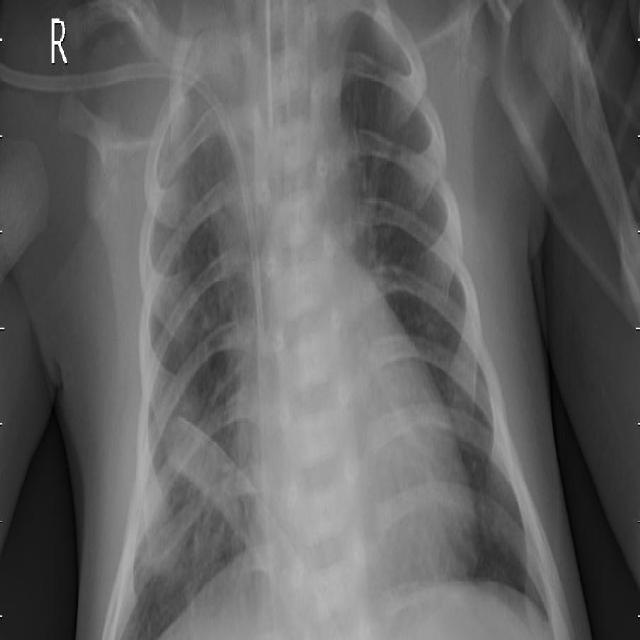high-pneumonia: (179, 20, 254, 166)
low-pneumonia: (205, 156, 262, 562), (143, 182, 209, 400), (133, 406, 207, 590), (328, 109, 391, 312)
